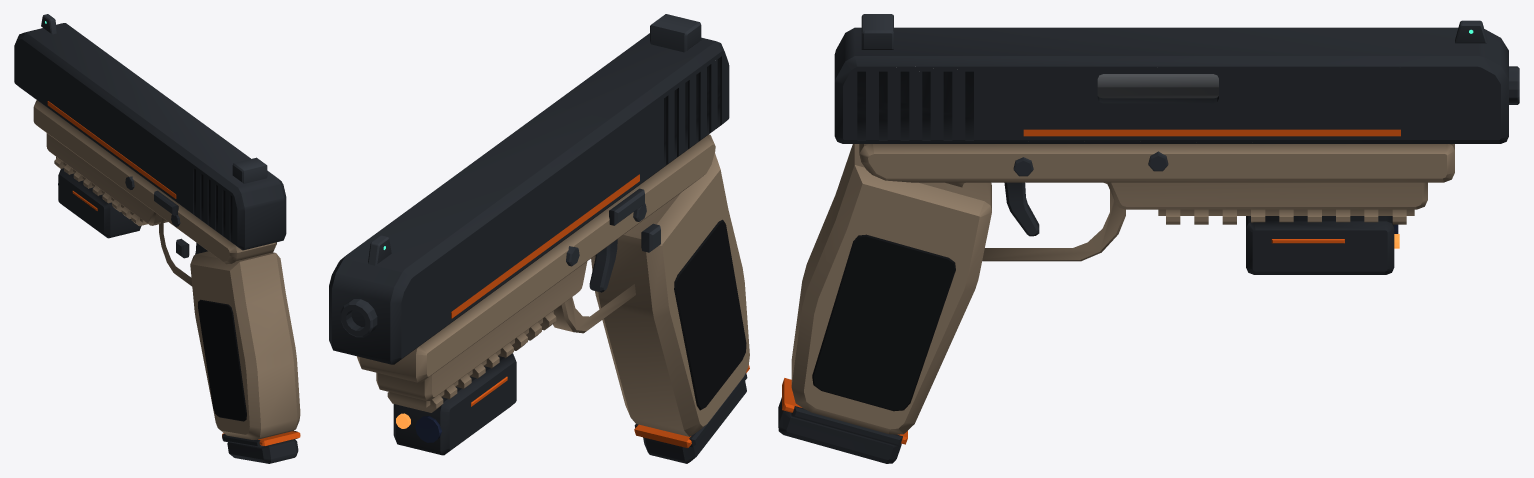
File: five-seven.glb
3 views of the same model, side by side, from view 1: azimuth 30°, elevation 25°; view 2: azimuth 150°, elevation 25°; view 3: azimuth 270°, elevation 25° (orthographic). The views are drawn at different scales.
Parts seen in each view (by area): view 1: bolt_frame2, body_furn, body_rubber, body_frame2, mag_frame2, bolt_steel, body_steel, bolt_accent, mag_accent; view 2: bolt_frame2, body_furn, body_rubber, body_frame2, body_steel, bolt_steel, mag_frame2, bolt_accent, mag_accent, body_lens; view 3: bolt_frame2, body_furn, body_rubber, body_frame2, bolt_bolt, bolt_accent, mag_frame2, body_steel, bolt_steel.
Boxes of the visible parts, bbox=[...] form: bolt_frame2: bbox=[14, 23, 286, 250]; body_furn: bbox=[33, 100, 300, 439]; body_rubber: bbox=[198, 299, 246, 421]; body_frame2: bbox=[58, 168, 298, 447]; mag_frame2: bbox=[227, 439, 298, 463]; bolt_steel: bbox=[41, 14, 267, 183]; body_steel: bbox=[125, 176, 207, 258]; bolt_accent: bbox=[47, 101, 176, 198]; mag_accent: bbox=[222, 431, 300, 445]; bolt_frame2: bbox=[329, 33, 729, 364]; body_furn: bbox=[357, 134, 749, 436]; body_rubber: bbox=[674, 219, 746, 410]; body_frame2: bbox=[393, 353, 747, 455]; body_steel: bbox=[340, 188, 660, 337]; bolt_steel: bbox=[368, 14, 701, 265]; mag_frame2: bbox=[643, 381, 746, 463]; bolt_accent: bbox=[451, 174, 639, 318]; mag_accent: bbox=[634, 365, 749, 447]; body_lens: bbox=[415, 416, 441, 442]; bolt_frame2: bbox=[834, 27, 1508, 143]; body_furn: bbox=[791, 144, 1454, 434]; body_rubber: bbox=[812, 234, 955, 411]; body_frame2: bbox=[791, 216, 1394, 446]; bolt_bolt: bbox=[1097, 67, 1218, 98]; bolt_accent: bbox=[1023, 129, 1400, 136]; mag_frame2: bbox=[778, 397, 901, 463]; body_steel: bbox=[1004, 66, 1519, 236]; bolt_steel: bbox=[861, 14, 1487, 49].
Bounding box in the file's own units: 0.0355 × 0.177 × 0.275.
